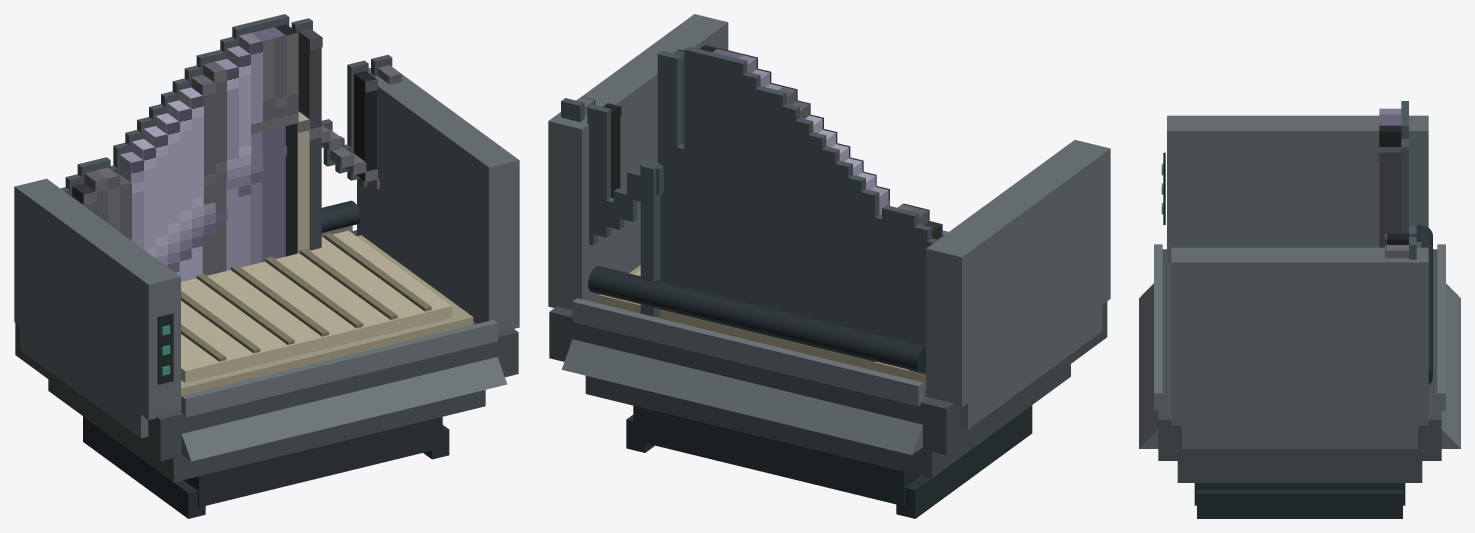
Rendered from CMU3DBodyScannerPodCloudNorth.glb.
3 views of the same model, side by side, from view 1: azimuth 30°, elevation 25°; view 2: azimuth 150°, elevation 25°; view 3: azimuth 270°, elevation 25° (orthographic). The views are drawn at different scales.
Visible parts, largest first — view 1: left heavy end cap, original open glass contour and sheen (×2), right instrument end cap, source-cut opened glass column (×12), patient pad, near bevelled fascia, wide patient-bay base, recessed undercarriage, rim rail, lower cast chassis, right stepped rounded end, separate mattress channels (×6) (+5 smaller); view 2: solid lid frame behind glass (×21), right instrument end cap, left heavy end cap, far bevelled fascia, wide patient-bay base, recessed undercarriage, continuous rear hinge, rim rail, lower cast chassis, right stepped rounded end, cast support foot, mattress inset (+3 smaller); view 3: left heavy end cap, right instrument end cap, left stepped rounded end, wide patient-bay base, cast support foot, lower cast chassis, rim rail (×2), source-cut opened glass column (×2), near bevelled fascia, far bevelled fascia, recessed undercarriage, continuous rear hinge (+1 smaller).
Part boxes in pixels (<box>): left heavy end cap: <box>357,67,519,330</box>; original open glass contour and sheen (×2): <box>83,32,401,272</box>; right instrument end cap: <box>14,178,180,419</box>; source-cut opened glass column (×12): <box>179,24,376,279</box>; patient pad: <box>181,230,451,382</box>; near bevelled fascia: <box>181,357,507,461</box>; wide patient-bay base: <box>15,230,518,461</box>; recessed undercarriage: <box>183,417,442,507</box>; rim rail: <box>181,320,497,417</box>; lower cast chassis: <box>48,379,485,482</box>; right stepped rounded end: <box>20,302,148,438</box>; separate mattress channels (×6): <box>181,233,431,353</box>; solid lid frame behind glass (×21): <box>587,46,931,374</box>; right instrument end cap: <box>926,140,1110,407</box>; left heavy end cap: <box>548,14,728,309</box>; far bevelled fascia: <box>561,339,922,454</box>; wide patient-bay base: <box>549,300,1107,454</box>; recessed undercarriage: <box>633,405,920,505</box>; continuous rear hinge: <box>588,266,925,372</box>; rim rail: <box>572,298,923,406</box>; lower cast chassis: <box>585,364,1070,478</box>; right stepped rounded end: <box>959,305,1102,429</box>; cast support foot: <box>896,405,1032,518</box>; mattress inset: <box>599,265,925,385</box>; left heavy end cap: <box>1171,247,1428,425</box>; right instrument end cap: <box>1167,115,1428,261</box>; left stepped rounded end: <box>1182,402,1417,448</box>; wide patient-bay base: <box>1158,249,1441,460</box>; cast support foot: <box>1197,490,1402,518</box>; lower cast chassis: <box>1177,461,1422,482</box>; rim rail (×2): <box>1154,244,1445,410</box>; source-cut opened glass column (×2): <box>1379,125,1401,247</box>; near bevelled fascia: <box>1139,283,1158,448</box>; far bevelled fascia: <box>1441,283,1460,448</box>; recessed undercarriage: <box>1194,483,1405,505</box>; continuous rear hinge: <box>1416,225,1432,384</box>.
Size of what is drawn, in the model's own units: 0.98 by 0.95 by 0.75.
23 materials, 2 textured.
